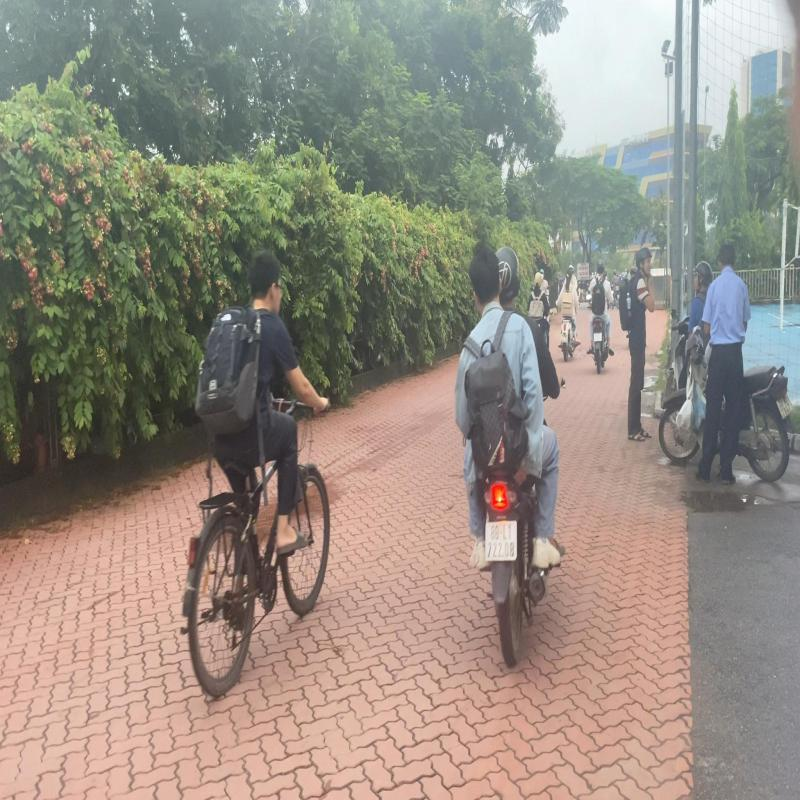helmet: (496, 246, 520, 301)
licenseplate: (484, 518, 518, 562)
motorcyclist: (454, 236, 568, 670)
nohelmet: (470, 243, 501, 307)
